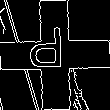P_S: (36, 29, 74, 81)
